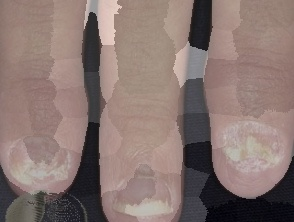Nail_psoriasis: (201, 97, 294, 194), (97, 135, 199, 222), (0, 113, 91, 210)
